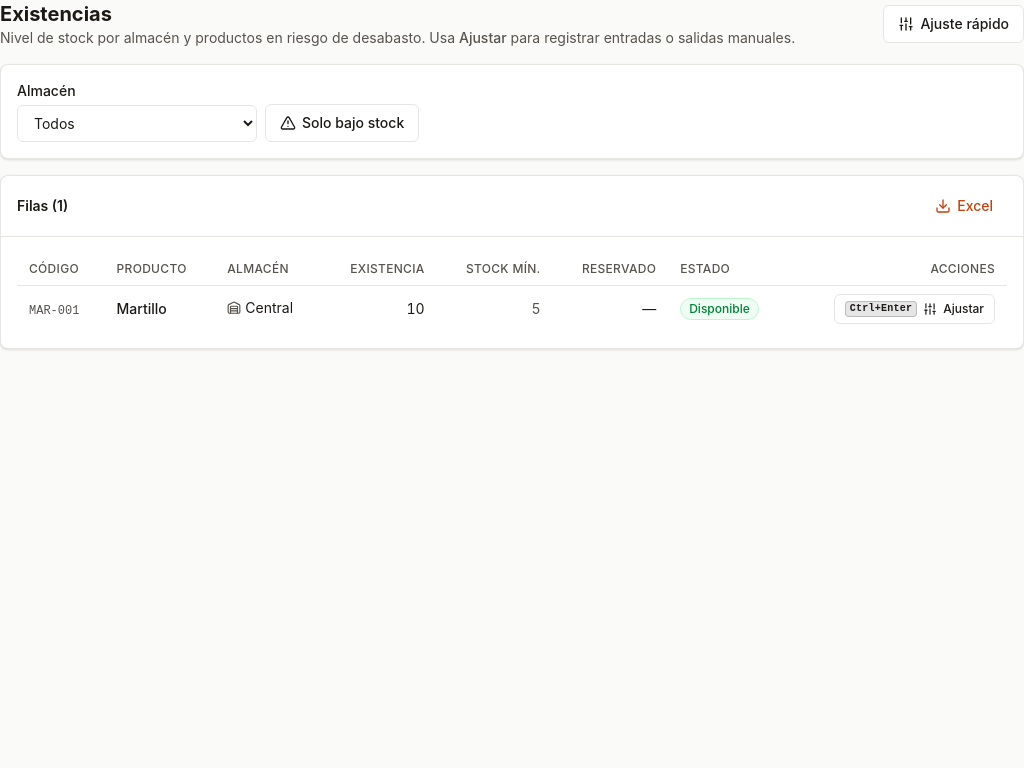
it: StockPage (smoke) › abrir 'Ajustar' muestra el diálogo de ajuste de existencia
Click the button with aria-label "Ajustar stock de Martillo". click: (914, 309)
box: [834, 294, 995, 324]
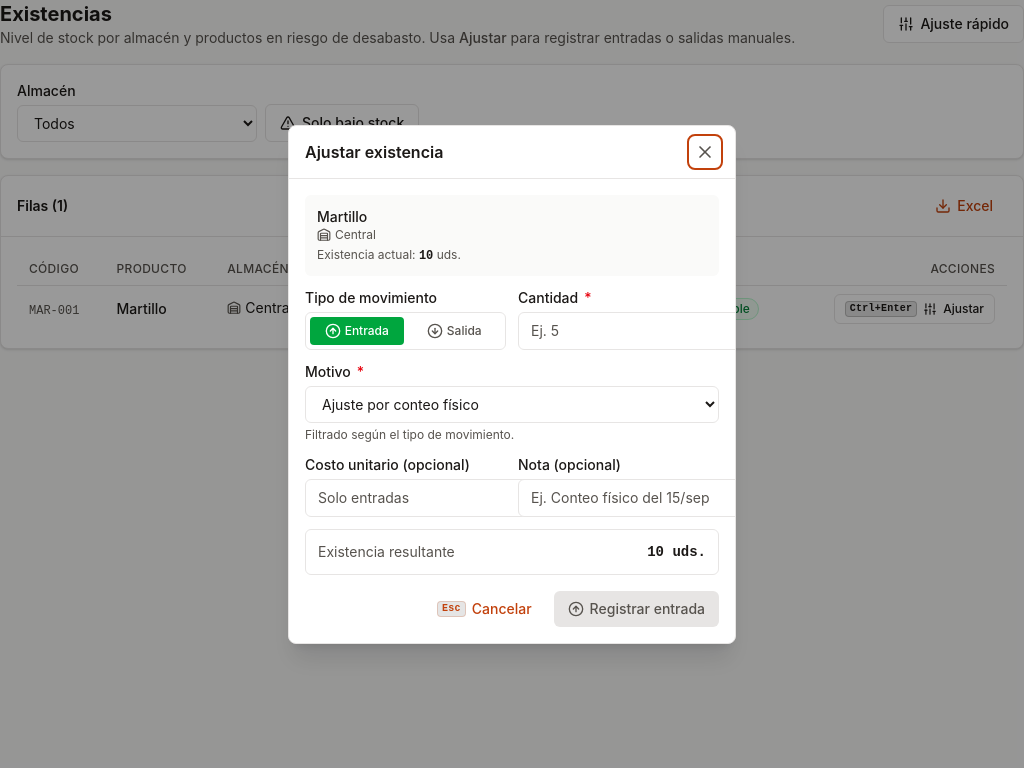
Check: the heading "Ajustar existencia" is shown, box [305, 140, 443, 164]
Check: the button "Registrar entrada" is shown, box [554, 590, 719, 626]
